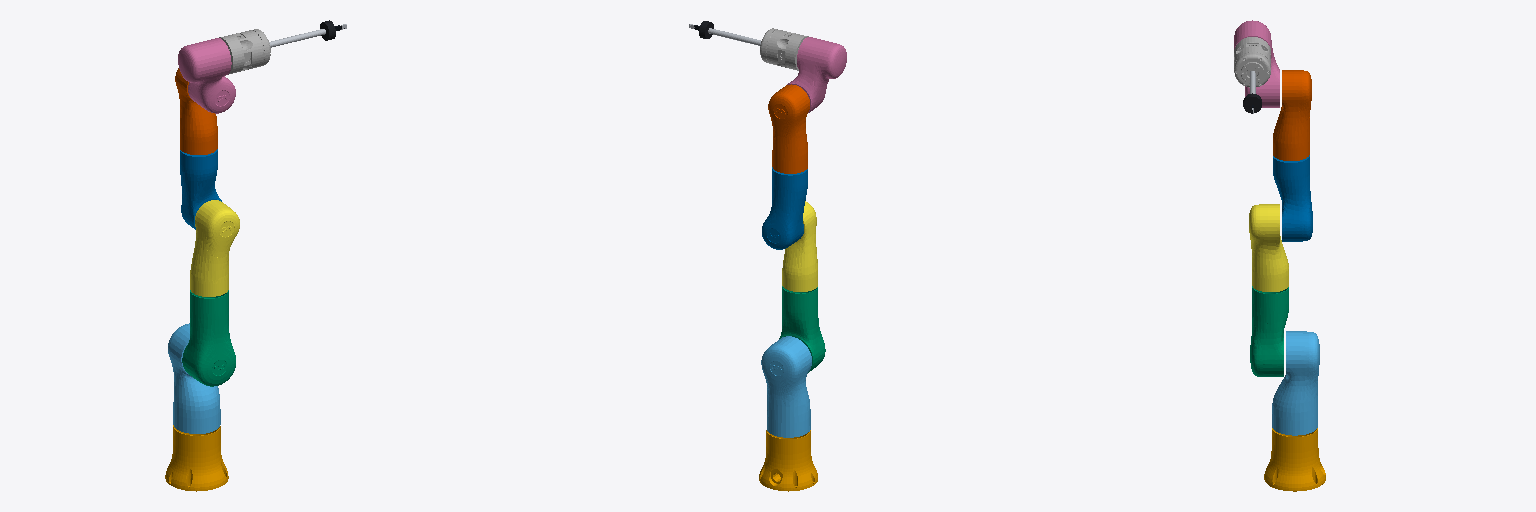
The robot description file, URDF, robot "Rizon4s_with_Wurth_629004113921_USB_A_plug":
<?xml version='1.0' encoding='utf-8'?>
<robot name="Rizon4s_with_Wurth_629004113921_USB_A_plug">
  <link name="base_link">
    <inertial>
      <origin xyz="0.0002 -0.0007 0.0871" rpy="0 0 0" />
      <mass value="3.788" />
      <inertia ixx="0.0182" ixy="0.0" ixz="0.0" iyy="0.0184" iyz="0.0001" izz="0.01" />
    </inertial>
    <visual>
      <geometry>
        <mesh filename="rizon4s_visual_link0.obj" />
      </geometry>
    </visual>
    <collision>
      <geometry>
        <mesh filename="rizon4s_collision_link0.stl" />
      </geometry>
    </collision>
  </link>
  <link name="link1">
    <inertial>
      <origin xyz="0.0001 0.0035 0.15" rpy="0 0 0" />
      <mass value="3.596" />
      <inertia ixx="0.0274" ixy="0.0" ixz="0.0" iyy="0.0273" iyz="0.0011" izz="0.0071" />
    </inertial>
    <visual>
      <geometry>
        <mesh filename="rizon4s_visual_link1.obj" />
      </geometry>
    </visual>
    <collision>
      <geometry>
        <mesh filename="rizon4s_collision_link1.stl" />
      </geometry>
    </collision>
  </link>
  <joint name="joint1" type="revolute">
    <parent link="base_link" />
    <child link="link1" />
    <origin xyz="0 0 0.155" rpy="0 0 3.141592653589793" />
    <axis xyz="0 0 1" />
    <limit lower="-2.8798" upper="2.8798" effort="123" velocity="2.0944" />
    <dynamics damping="0.1" friction="0" />
  </joint>
  <link name="link2">
    <inertial>
      <origin xyz="-0.0003 0.0361 0.0998" rpy="0 0 0" />
      <mass value="2.69" />
      <inertia ixx="0.023" ixy="0.0" ixz="0.0" iyy="0.0239" iyz="-0.0001" izz="0.0036" />
    </inertial>
    <visual>
      <geometry>
        <mesh filename="rizon4s_visual_link2.obj" />
      </geometry>
    </visual>
    <collision>
      <geometry>
        <mesh filename="rizon4s_collision_link2.stl" />
      </geometry>
    </collision>
  </link>
  <joint name="joint2" type="revolute">
    <parent link="link1" />
    <child link="link2" />
    <origin xyz="0 0.03 0.21" rpy="0 0 0" />
    <axis xyz="0 1 0" />
    <limit lower="-2.3562" upper="2.3562" effort="123" velocity="2.0944" />
    <dynamics damping="0.1" friction="0" />
  </joint>
  <link name="link3">
    <inertial>
      <origin xyz="-0.0123 -0.0012 0.1366" rpy="0 0 0" />
      <mass value="2.354" />
      <inertia ixx="0.0143" ixy="0.0001" ixz="-0.0015" iyy="0.0137" iyz="-0.0005" izz="0.004" />
    </inertial>
    <visual>
      <geometry>
        <mesh filename="rizon4s_visual_link3.obj" />
      </geometry>
    </visual>
    <collision>
      <geometry>
        <mesh filename="rizon4s_collision_link3.stl" />
      </geometry>
    </collision>
  </link>
  <joint name="joint3" type="revolute">
    <parent link="link2" />
    <child link="link3" />
    <origin xyz="0 0.035 0.205" rpy="0 0 0" />
    <axis xyz="0 0 1" />
    <limit lower="-3.0543" upper="3.0543" effort="64" velocity="2.4435" />
    <dynamics damping="0.08" friction="0" />
  </joint>
  <link name="link4">
    <inertial>
      <origin xyz="-0.0129 0.0313 0.1034" rpy="0 0 0" />
      <mass value="2.354" />
      <inertia ixx="0.018" ixy="0.0001" ixz="-0.0016" iyy="0.0184" iyz="-0.0012" izz="0.003" />
    </inertial>
    <visual>
      <geometry>
        <mesh filename="rizon4s_visual_link4.obj" />
      </geometry>
    </visual>
    <collision>
      <geometry>
        <mesh filename="rizon4s_collision_link4.stl" />
      </geometry>
    </collision>
  </link>
  <joint name="joint4" type="revolute">
    <parent link="link3" />
    <child link="link4" />
    <origin xyz="-0.02 -0.03 0.19" rpy="0 0 3.141592653589793" />
    <axis xyz="0 1 0" />
    <limit lower="-1.9548" upper="2.7751" effort="64" velocity="2.4435" />
    <dynamics damping="0.08" friction="0" />
  </joint>
  <link name="link5">
    <inertial>
      <origin xyz="0.0003 0.0014 0.1363" rpy="0 0 0" />
      <mass value="2.31" />
      <inertia ixx="0.0142" ixy="0.0" ixz="0.0" iyy="0.0135" iyz="0.0005" izz="0.0037" />
    </inertial>
    <visual>
      <geometry>
        <mesh filename="rizon4s_visual_link5.obj" />
      </geometry>
    </visual>
    <collision>
      <geometry>
        <mesh filename="rizon4s_collision_link5.stl" />
      </geometry>
    </collision>
  </link>
  <joint name="joint5" type="revolute">
    <parent link="link4" />
    <child link="link5" />
    <origin xyz="-0.02 0.025 0.195" rpy="0 0 3.141592653589793" />
    <axis xyz="0 0 1" />
    <limit lower="-3.0543" upper="3.0543" effort="39" velocity="4.8869" />
    <dynamics damping="0.05" friction="0" />
  </joint>
  <link name="link6">
    <inertial>
      <origin xyz="0.0202 0.0596 0.0724" rpy="0 0 0" />
      <mass value="2.223" />
      <inertia ixx="0.0085" ixy="0.0004" ixz="0.0012" iyy="0.009" iyz="0.0018" izz="0.0042" />
    </inertial>
    <visual>
      <geometry>
        <mesh filename="rizon4s_visual_link6.obj" />
      </geometry>
    </visual>
    <collision>
      <geometry>
        <mesh filename="rizon4s_collision_link6.stl" />
      </geometry>
    </collision>
  </link>
  <joint name="joint6" type="revolute">
    <parent link="link5" />
    <child link="link6" />
    <origin xyz="0 0.03 0.19" rpy="0 0 0" />
    <axis xyz="0 1 0" />
    <limit lower="-1.4835" upper="4.6251" effort="39" velocity="4.8869" />
    <dynamics damping="0.05" friction="0" />
  </joint>
  <link name="link7">
    <inertial>
      <origin xyz="0 0.0001 0.0544" rpy="0 0 0" />
      <mass value="1.403" />
      <inertia ixx="0.0032" ixy="0.0" ixz="0.0" iyy="0.0032" iyz="0.0" izz="0.0018" />
    </inertial>
    <visual>
      <geometry>
        <mesh filename="rizon4s_visual_link7.obj" />
      </geometry>
    </visual>
    <collision>
      <geometry>
        <mesh filename="rizon4s_collision_link7.stl" />
      </geometry>
    </collision>
  </link>
  <joint name="joint7" type="revolute">
    <parent link="link6" />
    <child link="link7" />
    <origin xyz="-0.015 0.073 0.11" rpy="0 -1.5707963267948966 0" />
    <axis xyz="0 0 1" />
    <limit lower="-3.0543" upper="3.0543" effort="39" velocity="4.8869" />
    <dynamics damping="0.03" friction="0" />
  </joint>
  <link name="flange" />
  <joint name="link7_to_flange" type="fixed">
    <parent link="link7" />
    <child link="flange" />
    <origin xyz="0 0 0.124" rpy="0 0 3.141592653589793" />
  </joint>
  <link name="tool_link">
    <inertial>
      <origin xyz="0 0 0.13" rpy="0 0 0" />
      <mass value="0.20" />
      <inertia ixx="0.001" iyy="0.001" izz="0.00004" ixy="0" ixz="0" iyz="0" />
    </inertial>
    <visual>
      <origin xyz="0 0 0.09" rpy="0 0 0" />
      <geometry>
        <cylinder radius="0.008" length="0.18" />
      </geometry>
      <material name="fixture">
        <color rgba="0.75 0.77 0.8 1" />
      </material>
    </visual>
    <collision>
      <origin xyz="0 0 0.09" rpy="0 0 0" />
      <geometry>
        <cylinder radius="0.008" length="0.18" />
      </geometry>
    </collision>
    <visual>
      <origin xyz="0 0 0.19" rpy="0 0 0" />
      <geometry>
        <cylinder radius="0.025" length="0.02" />
      </geometry>
      <material name="fixture">
        <color rgba="0.15 0.16 0.18 1" />
      </material>
    </visual>
    <collision>
      <origin xyz="0 0 0.19" rpy="0 0 0" />
      <geometry>
        <cylinder radius="0.025" length="0.02" />
      </geometry>
    </collision>
    <visual>
      <origin xyz="0 0 0.2181" rpy="0 0 0" />
      <geometry>
        <box size="0.012 0.006 0.0162" />
      </geometry>
      <material name="fixture">
        <color rgba="0.1 0.12 0.15 1" />
      </material>
    </visual>
    <collision>
      <origin xyz="0 0 0.2181" rpy="0 0 0" />
      <geometry>
        <box size="0.012 0.006 0.0162" />
      </geometry>
    </collision>
    <visual>
      <origin xyz="0 0 0.237625" rpy="1.570796327 0 0" />
      <geometry>
        <mesh filename="usb_a/plug_00.obj" />
      </geometry>
      <material name="plug_00.obj">
        <color rgba="0.72 0.74 0.77 1" />
      </material>
    </visual>
    <visual>
      <origin xyz="0 0 0.237625" rpy="1.570796327 0 0" />
      <geometry>
        <mesh filename="usb_a/plug_01.obj" />
      </geometry>
      <material name="plug_01.obj">
        <color rgba="0.85 0.68 0.25 1" />
      </material>
    </visual>
    <visual>
      <origin xyz="0 0 0.237625" rpy="1.570796327 0 0" />
      <geometry>
        <mesh filename="usb_a/plug_02.obj" />
      </geometry>
      <material name="plug_02.obj">
        <color rgba="0.85 0.68 0.25 1" />
      </material>
    </visual>
    <visual>
      <origin xyz="0 0 0.237625" rpy="1.570796327 0 0" />
      <geometry>
        <mesh filename="usb_a/plug_03.obj" />
      </geometry>
      <material name="plug_03.obj">
        <color rgba="0.12 0.13 0.15 1" />
      </material>
    </visual>
    <visual>
      <origin xyz="0 0 0.237625" rpy="1.570796327 0 0" />
      <geometry>
        <mesh filename="usb_a/plug_04.obj" />
      </geometry>
      <material name="plug_04.obj">
        <color rgba="0.85 0.68 0.25 1" />
      </material>
    </visual>
    <visual>
      <origin xyz="0 0 0.237625" rpy="1.570796327 0 0" />
      <geometry>
        <mesh filename="usb_a/plug_05.obj" />
      </geometry>
      <material name="plug_05.obj">
        <color rgba="0.85 0.68 0.25 1" />
      </material>
    </visual>
    <collision>
      <origin xyz="0 0 0.237625" rpy="1.570796327 0 0" />
      <geometry>
        <mesh filename="usb_a/plug_mating_contact_00.obj" />
      </geometry>
    </collision>
    <collision>
      <origin xyz="0 0 0.237625" rpy="1.570796327 0 0" />
      <geometry>
        <mesh filename="usb_a/plug_mating_contact_01.obj" />
      </geometry>
    </collision>
    <collision>
      <origin xyz="0 0 0.237625" rpy="1.570796327 0 0" />
      <geometry>
        <mesh filename="usb_a/plug_mating_contact_02.obj" />
      </geometry>
    </collision>
    <collision>
      <origin xyz="0 0 0.237625" rpy="1.570796327 0 0" />
      <geometry>
        <mesh filename="usb_a/plug_mating_contact_03.obj" />
      </geometry>
    </collision>
    <collision>
      <origin xyz="0 0 0.237625" rpy="1.570796327 0 0" />
      <geometry>
        <mesh filename="usb_a/plug_mating_contact_04.obj" />
      </geometry>
    </collision>
    <collision>
      <origin xyz="0 0 0.237625" rpy="1.570796327 0 0" />
      <geometry>
        <mesh filename="usb_a/plug_mating_contact_05.obj" />
      </geometry>
    </collision>
    <collision>
      <origin xyz="0 0 0.237625" rpy="1.570796327 0 0" />
      <geometry>
        <mesh filename="usb_a/plug_mating_contact_06.obj" />
      </geometry>
    </collision>
    <collision>
      <origin xyz="0 0 0.237625" rpy="1.570796327 0 0" />
      <geometry>
        <mesh filename="usb_a/plug_mating_contact_07.obj" />
      </geometry>
    </collision>
    <collision>
      <origin xyz="0 0 0.237625" rpy="1.570796327 0 0" />
      <geometry>
        <mesh filename="usb_a/plug_mating_contact_08.obj" />
      </geometry>
    </collision>
    <collision>
      <origin xyz="0 0 0.237625" rpy="1.570796327 0 0" />
      <geometry>
        <mesh filename="usb_a/plug_mating_contact_09.obj" />
      </geometry>
    </collision>
    <collision>
      <origin xyz="0 0 0.237625" rpy="1.570796327 0 0" />
      <geometry>
        <mesh filename="usb_a/plug_mating_contact_10.obj" />
      </geometry>
    </collision>
    <collision>
      <origin xyz="0 0 0.237625" rpy="1.570796327 0 0" />
      <geometry>
        <mesh filename="usb_a/plug_mating_contact_11.obj" />
      </geometry>
    </collision>
    <collision>
      <origin xyz="0 0 0.237625" rpy="1.570796327 0 0" />
      <geometry>
        <mesh filename="usb_a/plug_mating_contact_12.obj" />
      </geometry>
    </collision>
    <collision>
      <origin xyz="0 0 0.237625" rpy="1.570796327 0 0" />
      <geometry>
        <mesh filename="usb_a/plug_mating_contact_13.obj" />
      </geometry>
    </collision>
    <collision>
      <origin xyz="0 0 0.237625" rpy="1.570796327 0 0" />
      <geometry>
        <mesh filename="usb_a/plug_mating_contact_14.obj" />
      </geometry>
    </collision>
    <collision>
      <origin xyz="0 0 0.237625" rpy="1.570796327 0 0" />
      <geometry>
        <mesh filename="usb_a/plug_mating_contact_15.obj" />
      </geometry>
    </collision>
    <collision>
      <origin xyz="0 0 0.237625" rpy="1.570796327 0 0" />
      <geometry>
        <mesh filename="usb_a/plug_back_contact_00.obj" />
      </geometry>
    </collision>
  </link>
  <joint name="flange_to_tool" type="fixed">
    <parent link="flange" />
    <child link="tool_link" />
    <origin xyz="0 0 0" rpy="0 0 0" />
  </joint>
</robot>

--- Facts derived from the render (not from the file) ---
Views: 3 orthographic renders of the robot side by side, from view 1: azimuth 30°, elevation 25°; view 2: azimuth 150°, elevation 25°; view 3: azimuth 270°, elevation 25°.
Robot: Rizon4s_with_Wurth_629004113921_USB_A_plug — 10 links, 9 joints (7 revolute, 2 fixed); root link base_link; default pose: all joints at 0.
Links seen in each view (by area): view 1: link2, link3, link6, link1, base_link, link4, link5, link7, tool_link; view 2: link1, link5, base_link, link4, link6, link2, link3, link7, tool_link; view 3: link1, link2, base_link, link5, link3, link4, link7, link6.
Boxes of the visible links, x1,y1,x2,y2 form: link2: (182, 290, 235, 386); link3: (190, 200, 239, 296); link6: (178, 38, 235, 113); link1: (168, 323, 220, 433); base_link: (165, 425, 228, 491); link4: (180, 149, 221, 229); link5: (175, 68, 217, 154); link7: (219, 29, 270, 74); tool_link: (269, 20, 346, 47); link1: (761, 336, 811, 437); link5: (768, 84, 809, 173); base_link: (759, 430, 817, 491); link4: (762, 167, 807, 249); link6: (787, 37, 846, 112); link2: (779, 286, 825, 372); link3: (782, 201, 817, 291); link7: (760, 28, 808, 70); tool_link: (689, 21, 760, 45); link1: (1272, 331, 1319, 435); link2: (1250, 286, 1288, 376); base_link: (1264, 428, 1325, 491); link5: (1273, 70, 1311, 160); link3: (1249, 204, 1288, 291); link4: (1273, 155, 1312, 241); link7: (1234, 37, 1270, 87); link6: (1234, 20, 1279, 107).
Size in the robot's own frame: 0.4895 by 0.2454 by 1.3 metres.
14 mesh visuals loaded from 14 distinct referenced files (14 OBJ).
